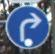turn: (5, 5, 49, 49)
